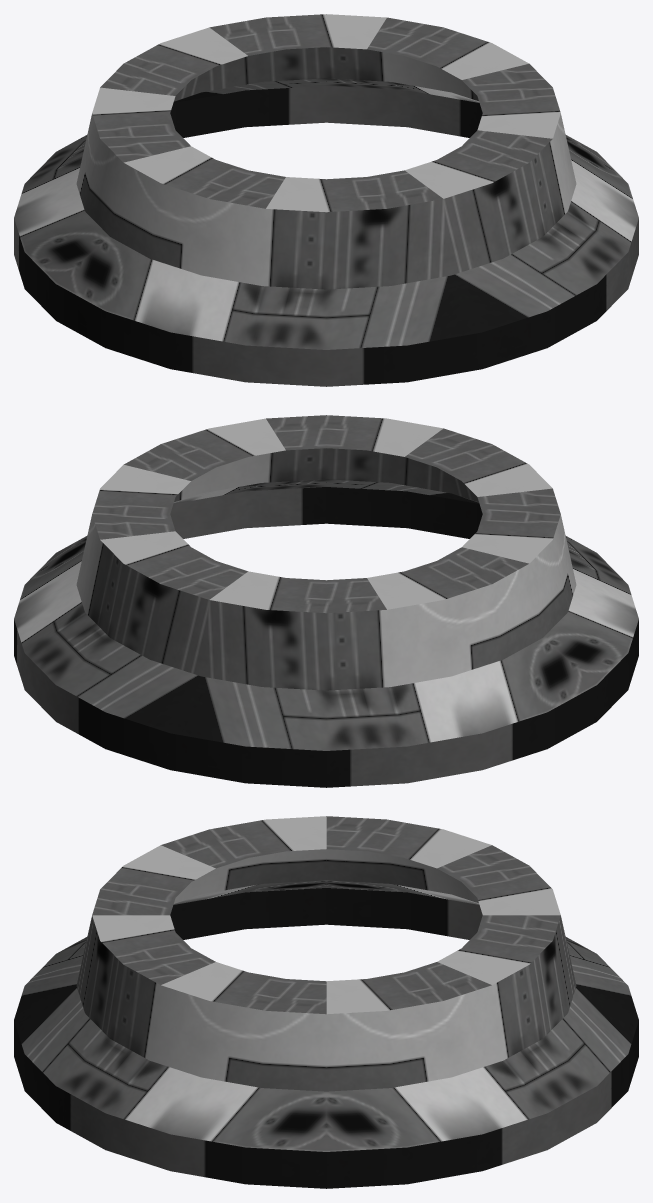
The model's file is big_adapter_to_small_lip.fbx.
3 renders of one model, top to bottom at view 1: azimuth 30°, elevation 25°; view 2: azimuth 150°, elevation 25°; view 3: azimuth 270°, elevation 25°, orthographic.
Parts seen in each view (by area): view 1: mesh; view 2: mesh; view 3: mesh.
Part boxes in pixels (x1,y1,x2,y2): mesh: (14,14,638,386); mesh: (14,415,638,787); mesh: (14,816,638,1188).
Bounding box in the file's own units: 1.25 × 0.3125 × 1.25.
